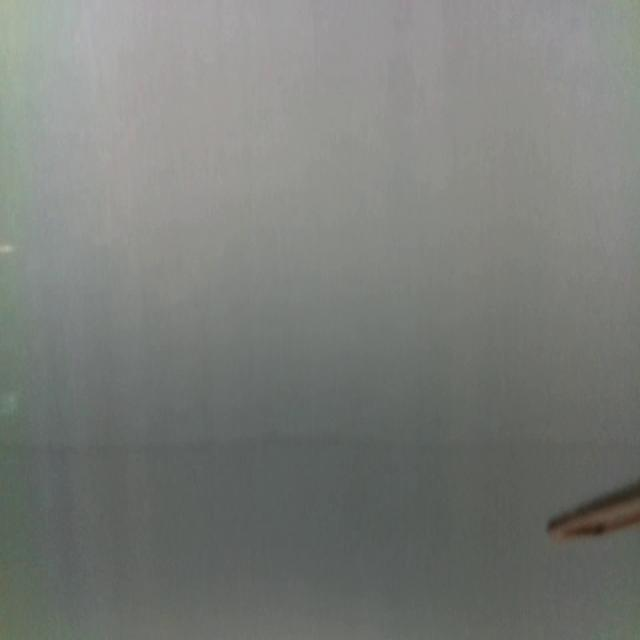color bleeding: (3, 419, 640, 468)
